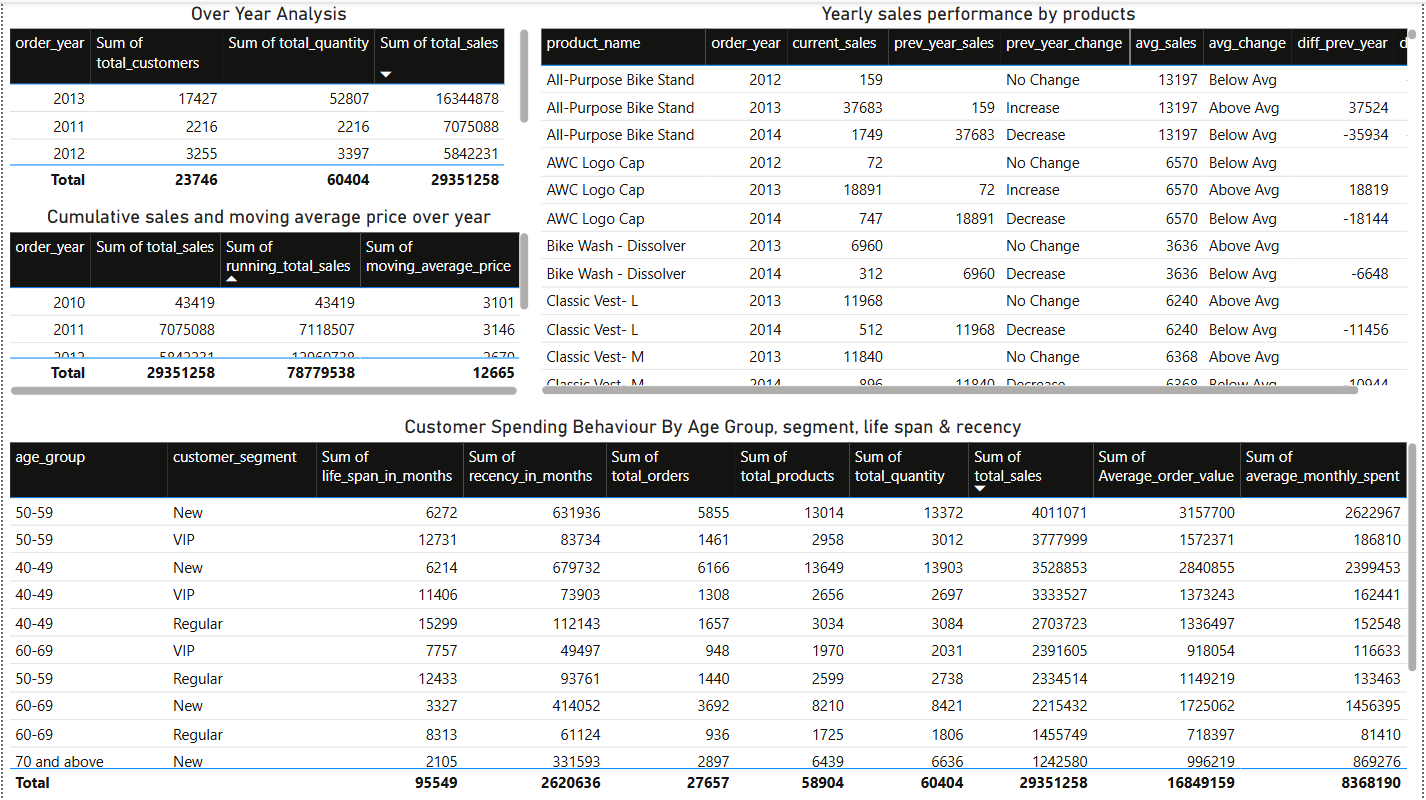

What the dashboard file says about the page in this screenshot:
{"tool":"powerbi","page":{"name":"Basic Report","canvas":[1280,720],"ordinal":1},"visuals":[{"type":"tableEx","title":"Cumulative sales and moving average price over year","fields":{"Values":["gold Cum_sales_mov_avg_price.order_year","Sum(gold Cum_sales_mov_avg_price.total_sales)","Sum(gold Cum_sales_mov_avg_price.running_total_sales)","Sum(gold Cum_sales_mov_avg_price.moving_average_price)"]},"box":[0,183.4,479.4,176.1],"z":0},{"type":"tableEx","title":"Over Year Analysis","fields":{"Values":["gold Over_year_analysis.order_year","Sum(gold Over_year_analysis.total_customers)","Sum(gold Over_year_analysis.total_quantity)","Sum(gold Over_year_analysis.total_sales)"]},"box":[0,0,479.4,176.1],"z":1000},{"type":"tableEx","title":"Yearly sales performance by products","fields":{"Values":["Yearly Sales Performance.product_name","Yearly Sales Performance.order_year","Yearly Sales Performance.current_sales","Yearly Sales Performance.prev_year_sales","Yearly Sales Performance.prev_year_change","Yearly Sales Performance.avg_sales","Yearly Sales Performance.avg_change","Yearly Sales Performance.diff_prev_year","Yearly Sales Performance.diff_avg"]},"box":[479.4,0,801,359.5],"z":2000},{"type":"tableEx","title":"Customer Spending Behaviour By Age Group, segment, life span & recency","fields":{"Values":["Query3.age_group","Query3.customer_segment","Sum(Query3.life_span_in_months)","Sum(Query3.recency_in_months)","Sum(Query3.total_orders)","Sum(Query3.total_products)","Sum(Query3.total_quantity)","Sum(Query3.total_sales)","Sum(Query3.Average_order_value)","Sum(Query3.average_monthly_spent)"]},"box":[0,373,1280.3,347.3],"z":2001}]}

Visuals, with their boxes in screenshot pixels (x1, y1, x2, y2), scaled from the page's 1280x720 canvas onto the 1426x800 screenshot:
"Cumulative sales and moving average price over year" tableEx: (0,204,534,399)
"Over Year Analysis" tableEx: (0,0,534,196)
"Yearly sales performance by products" tableEx: (534,0,1425,399)
"Customer Spending Behaviour By Age Group, segment, life span & recency" tableEx: (0,414,1425,799)
